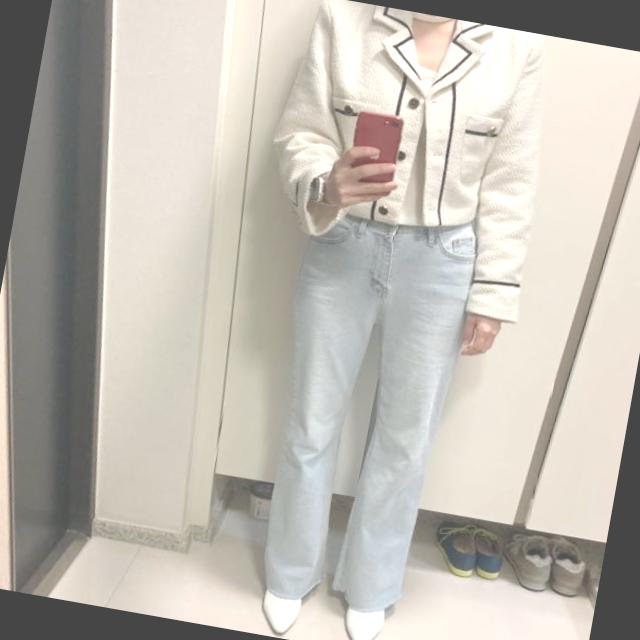blazer: (247, 0, 565, 322)
denimpants: (241, 193, 478, 626)
